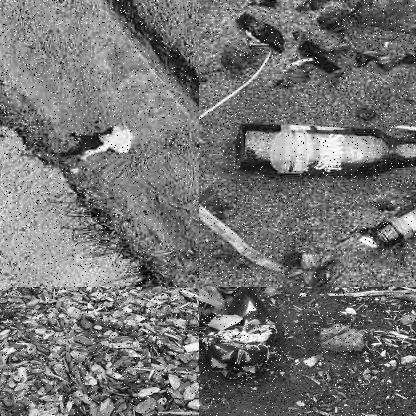glass: (237, 122, 415, 181), (362, 197, 416, 261)
plastic: (200, 287, 279, 372), (78, 120, 140, 160)
